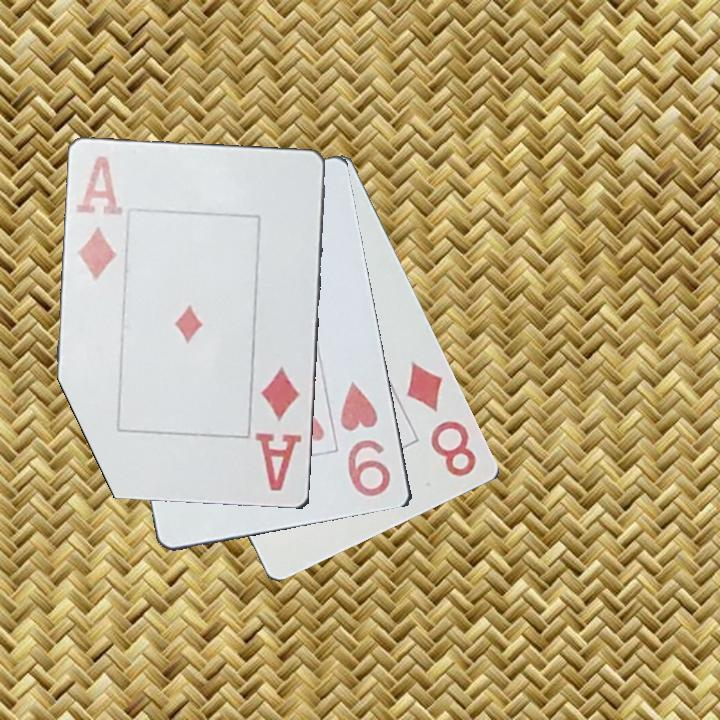8d: (403, 358, 481, 482)
9h: (337, 376, 395, 500)
Ad: (72, 152, 126, 284), (252, 363, 305, 494)
